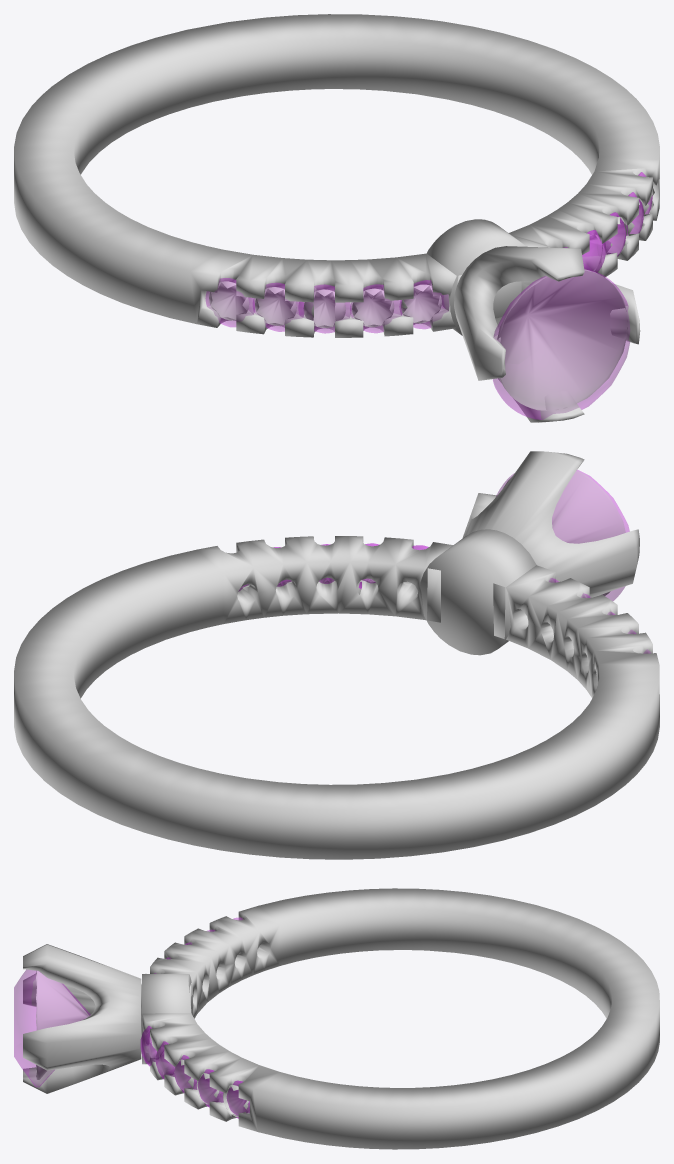
The model's file is diamonds-ring.glb.
3 views of the same model, one above another, from view 1: azimuth 30°, elevation 25°; view 2: azimuth 150°, elevation 25°; view 3: azimuth 270°, elevation 25° (orthographic). The views are drawn at different scales.
Visible parts, largest first — view 1: stevenuntitled, cruz, cruz.018, cruz.020, cruz.017, cruz.016, cruz.019, cruz.002, cruz.007; view 2: stevenuntitled, cruz; view 3: stevenuntitled, cruz, cruz.004, cruz.005, cruz.001, cruz.009.
Part boxes in pixels (x1=…): stevenuntitled: x1=14, y1=14, x2=659, y2=422; cruz: x1=493, y1=269, x2=629, y2=419; cruz.018: x1=350, y1=284, x2=402, y2=332; cruz.020: x1=205, y1=278, x2=254, y2=326; cruz.017: x1=298, y1=284, x2=351, y2=333; cruz.016: x1=253, y1=283, x2=303, y2=331; cruz.019: x1=399, y1=280, x2=448, y2=328; cruz.002: x1=582, y1=230, x2=605, y2=272; cruz.007: x1=582, y1=230, x2=605, y2=271; stevenuntitled: x1=14, y1=451, x2=659, y2=859; cruz: x1=496, y1=470, x2=629, y2=600; stevenuntitled: x1=23, y1=888, x2=659, y2=1149; cruz: x1=14, y1=970, x2=90, y2=1086; cruz.004: x1=198, y1=1069, x2=223, y2=1107; cruz.005: x1=227, y1=1081, x2=249, y2=1118; cruz.001: x1=141, y1=1026, x2=156, y2=1065; cruz.009: x1=198, y1=1070, x2=222, y2=1106.
Bounding box in the file's own units: 1.86 × 0.5389 × 2.3.
